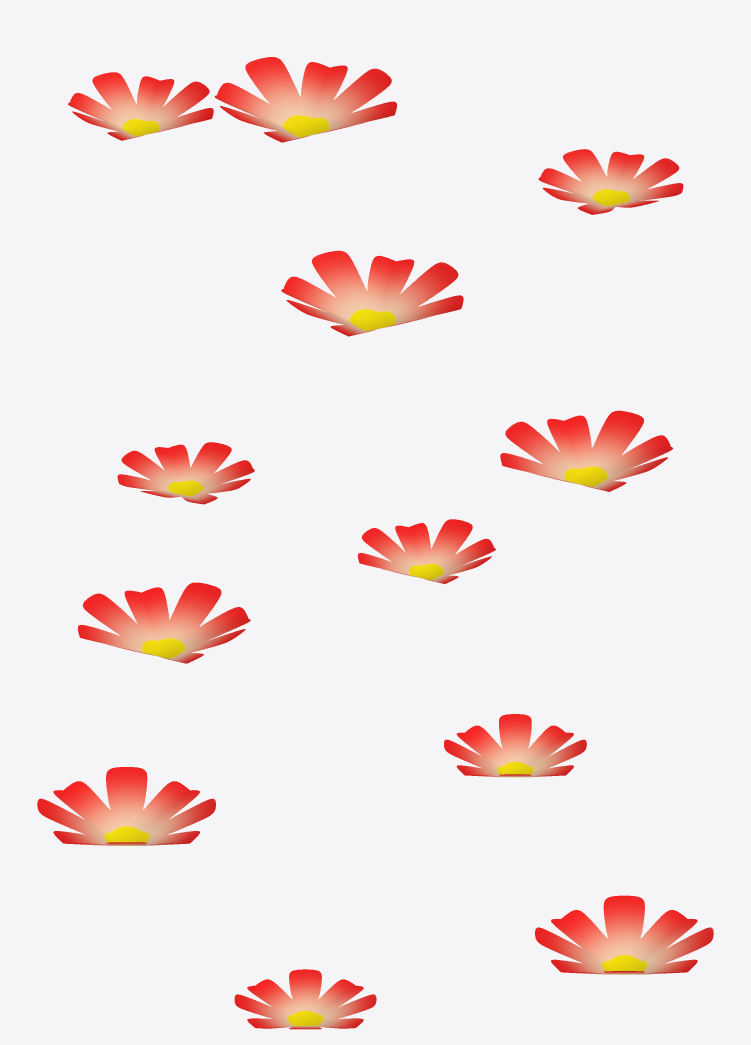
File: SM_Flower_Red.fbx
3 views of the same model, one above another, from view 1: azimuth 30°, elevation 25°; view 2: azimuth 150°, elevation 25°; view 3: azimuth 270°, elevation 25° (orthographic). The views are drawn at different scales.
Visible parts, largest first — view 1: Red_Flower; view 2: Red_Flower; view 3: Red_Flower.
Part boxes in pixels (<box>): Red_Flower: <box>68,57,683,336</box>; Red_Flower: <box>78,410,672,663</box>; Red_Flower: <box>37,714,713,1029</box>.
Size of the model in its own units: 72.77 by 17.58 by 89.82.
